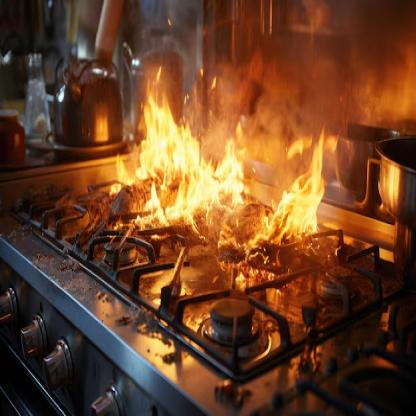fire: (104, 78, 333, 249)
smoke: (130, 0, 416, 182)
